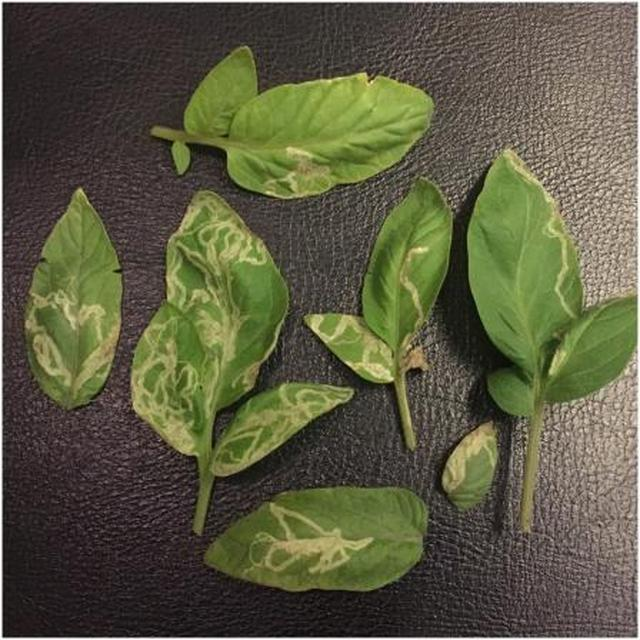Leaf Miner: (95, 103, 640, 640)
